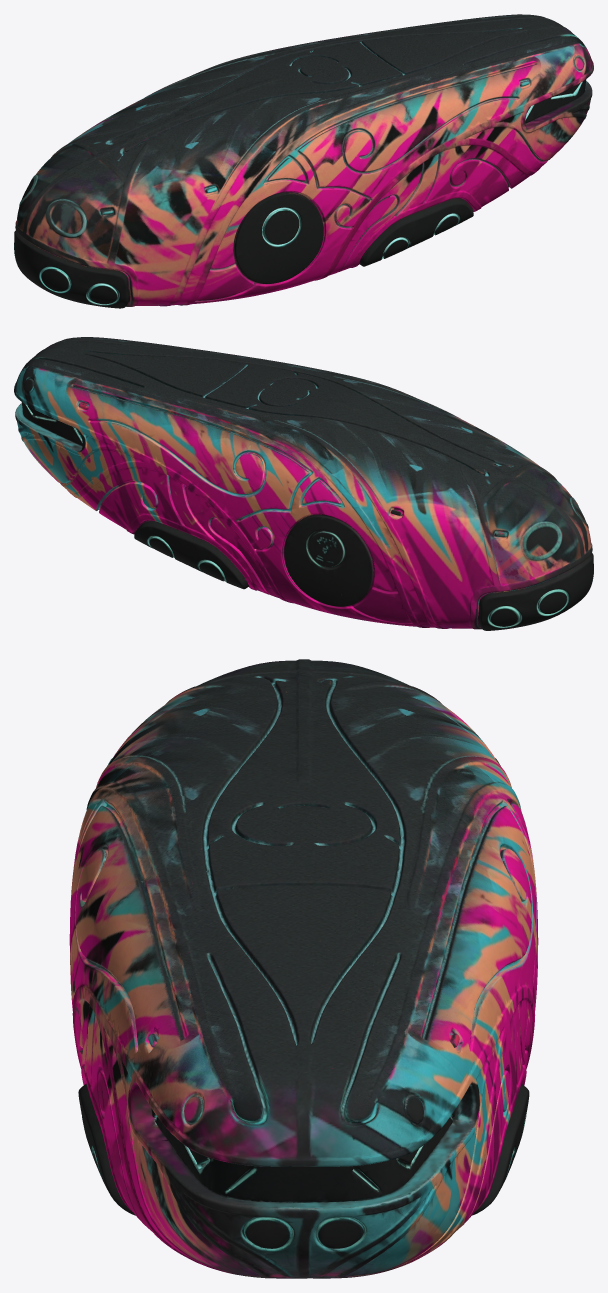
Rendered from starpod_camo_v1.glb.
The picture shows the model from 3 angles, top to bottom: view 1: azimuth 30°, elevation 25°; view 2: azimuth 150°, elevation 25°; view 3: azimuth 270°, elevation 25°; orthographic projection. The views are drawn at different scales.
Size of the model in its own units: 2 by 0.6112 by 0.7297.
1 material, 1 textured.
